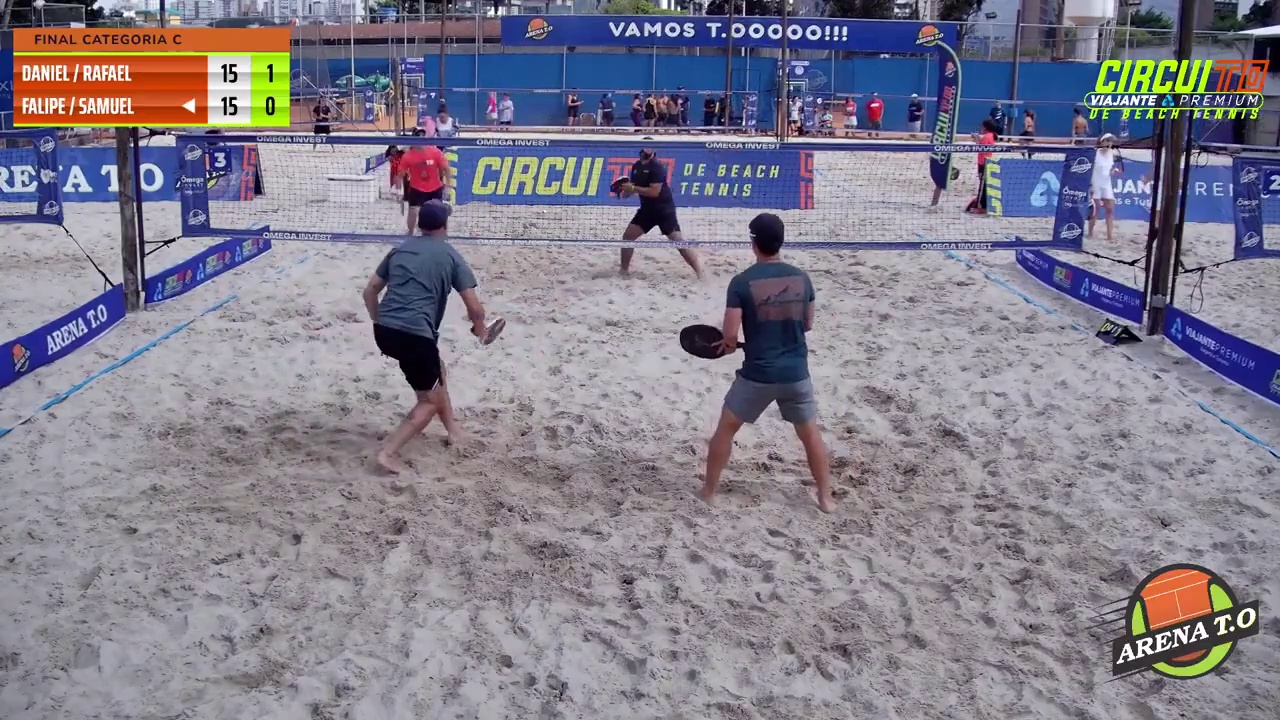court_line: (637, 0, 789, 343)
